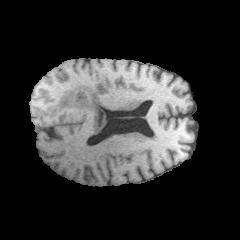glioma: (47, 82, 127, 134)
